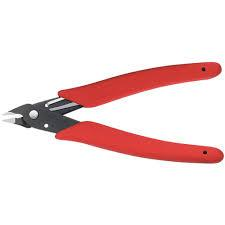pliers: (1, 60, 224, 163)
